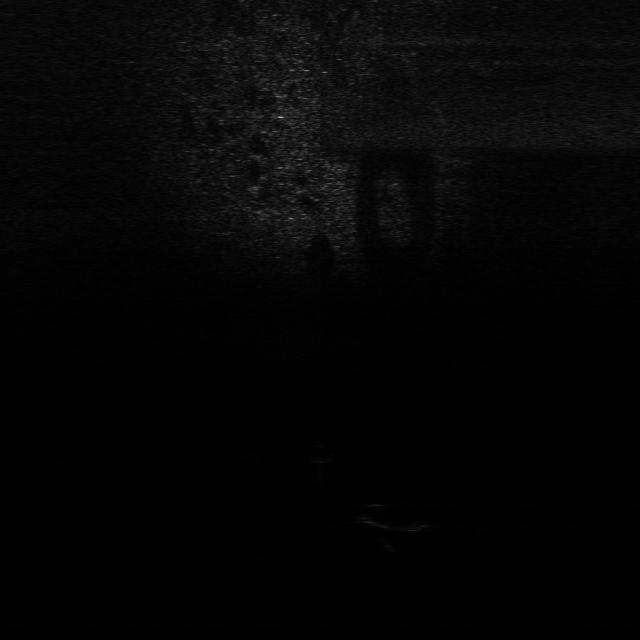ball: (306, 443, 336, 465)
tyre: (351, 500, 438, 536)
